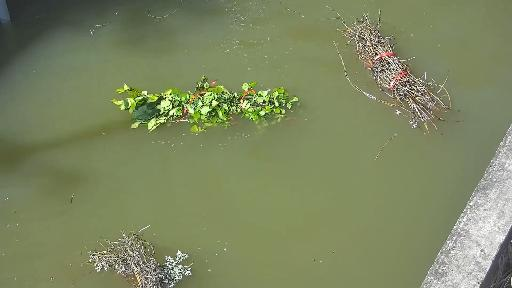twig: (332, 9, 449, 140), (110, 74, 321, 133), (99, 219, 207, 288)
